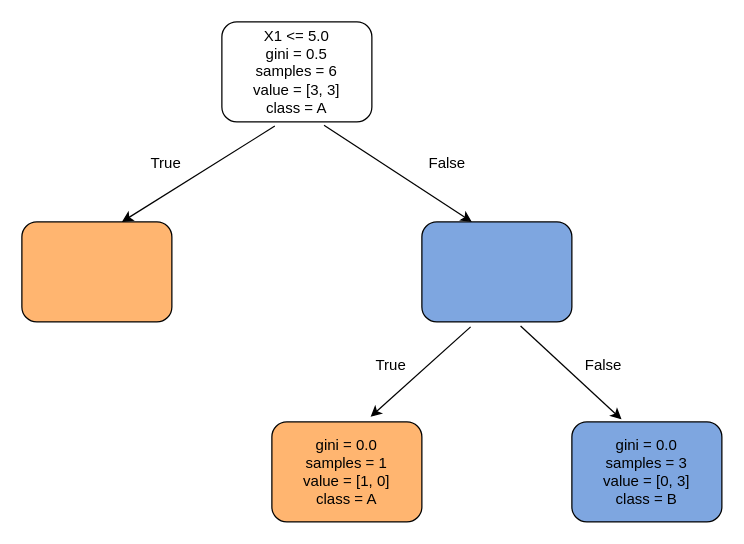
Image size: 744x544. Some labels were removed from this diagram. The box of each missing label's shape, as (x1, y1, x2, y2) in pixels:
gini = 0.0 samples = 2 value = [2, 0] class = A: (21, 221, 172, 322)
X2 <= 3.5 gini = 0.375 samples = 4 value = [1, 3] class = B: (421, 221, 572, 322)
